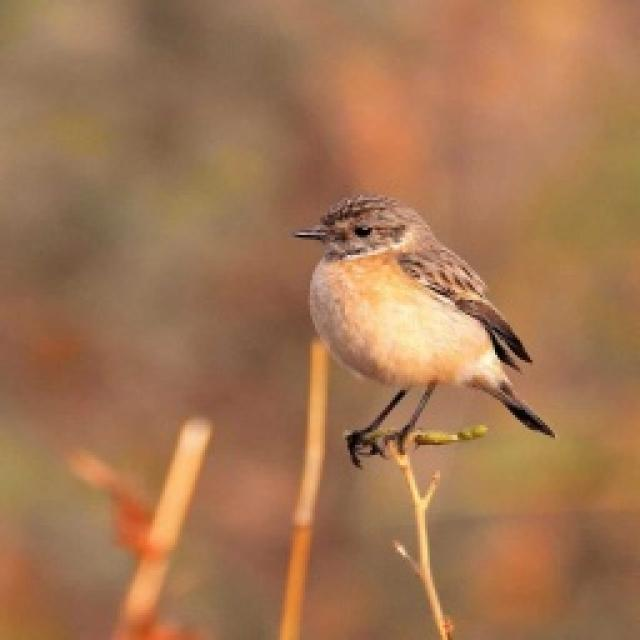sparrow: (288, 188, 558, 470)
